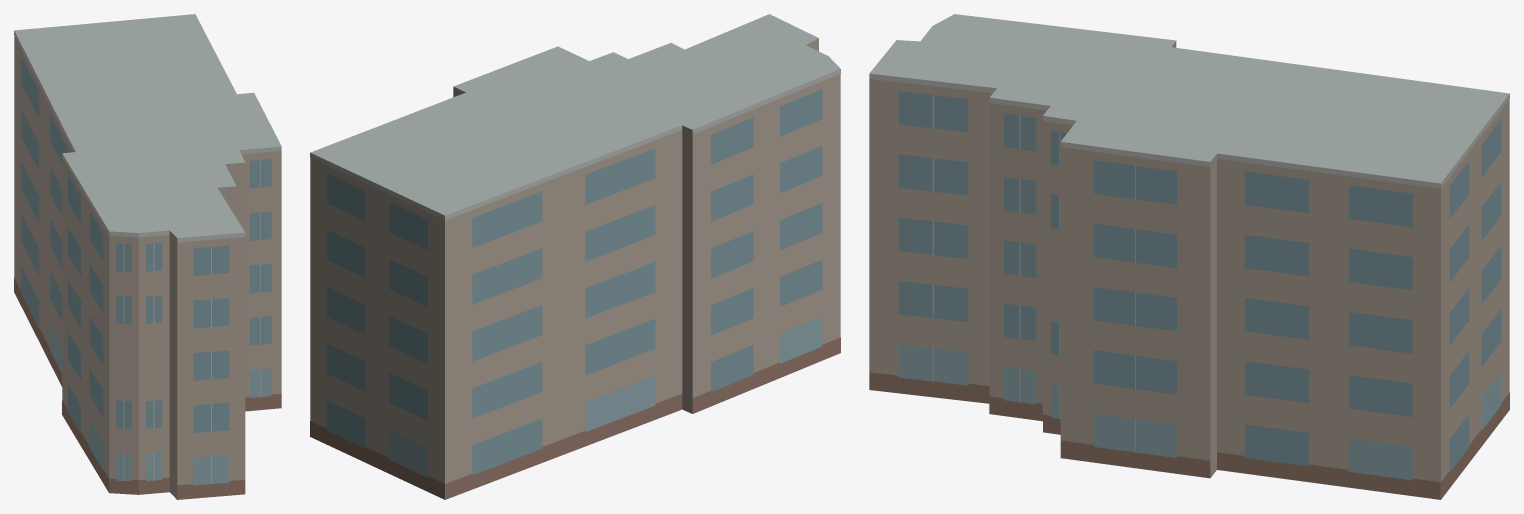
The model's file is survey-upis-32592552.glb.
3 renders of one model, left to right at view 1: azimuth 30°, elevation 25°; view 2: azimuth 150°, elevation 25°; view 3: azimuth 270°, elevation 25°, orthographic. The views are drawn at different scales.
Visible parts, largest first — view 1: survey-upis-32592552.tmp; view 2: survey-upis-32592552.tmp; view 3: survey-upis-32592552.tmp.
Boxes of the visible parts, <box> form: survey-upis-32592552.tmp: <box>14,14,281,499</box>; survey-upis-32592552.tmp: <box>310,14,840,499</box>; survey-upis-32592552.tmp: <box>869,14,1509,499</box>.
Bounding box in the file's own units: 16.79 × 14.6 × 26.8.
